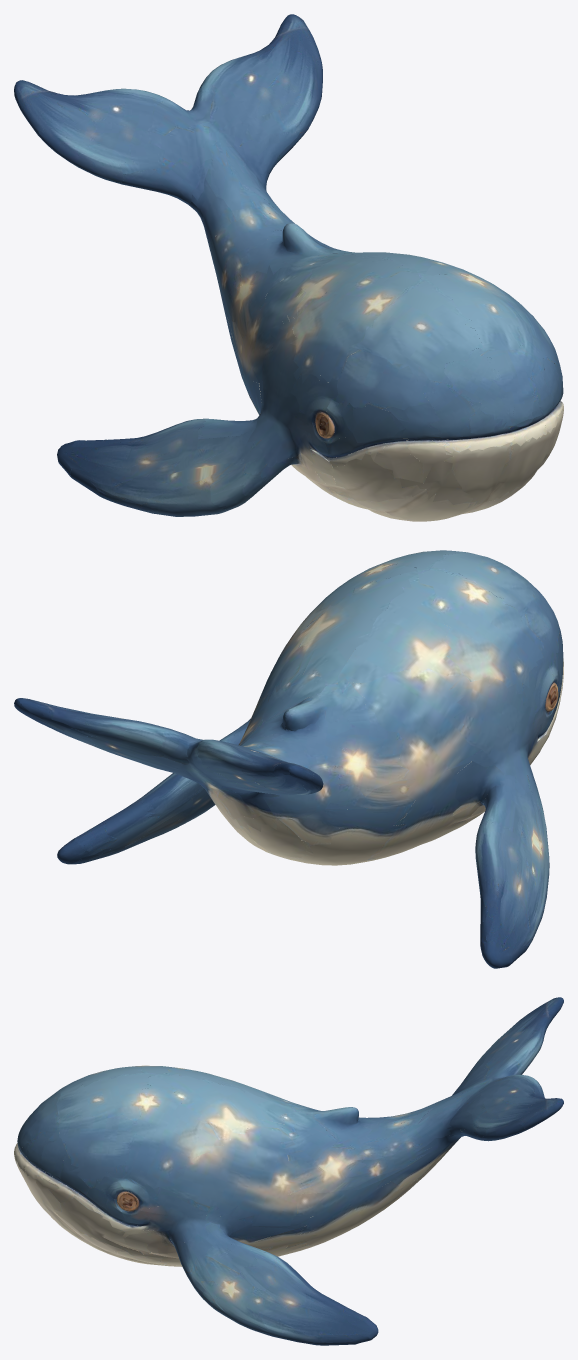
Rendered from whale.glb.
3 views of the same model, one above another, from view 1: azimuth 30°, elevation 25°; view 2: azimuth 150°, elevation 25°; view 3: azimuth 270°, elevation 25° (orthographic). The views are drawn at different scales.
Visible parts, largest first — view 1: Mesh_0; view 2: Mesh_0; view 3: Mesh_0.
Part boxes in pixels (left/top/right/bottom): Mesh_0: left=14, top=14, right=563, bottom=521; Mesh_0: left=14, top=550, right=563, bottom=968; Mesh_0: left=14, top=997, right=563, bottom=1345.
Size of the model in its own units: 1.36 by 0.8375 by 1.9.
Materials: 1 (1 with a texture image).
